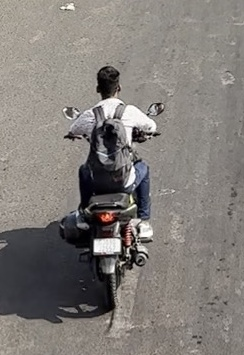BikeWithRider: (52, 62, 173, 314)
NoHelmet: (90, 62, 125, 102)
